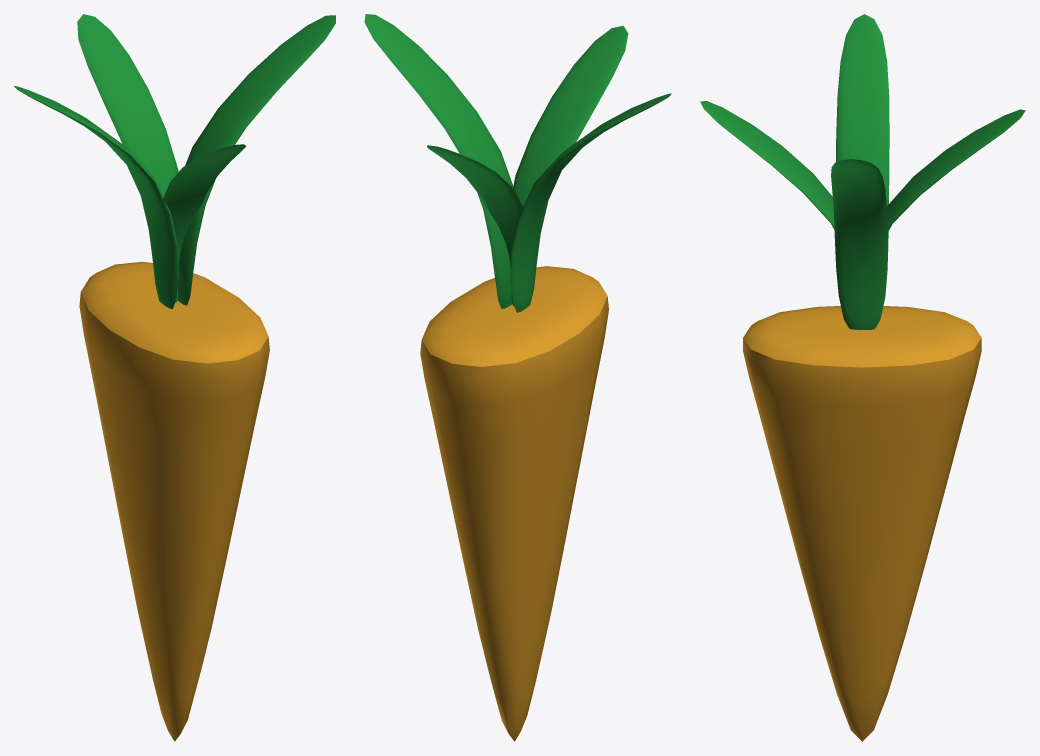
File: Carrot.fbx
The picture shows the model from 3 angles, left to right: view 1: azimuth 30°, elevation 25°; view 2: azimuth 150°, elevation 25°; view 3: azimuth 270°, elevation 25°; orthographic projection. The views are drawn at different scales.
Visible parts, largest first — view 1: Cube; view 2: Cube; view 3: Cube.
Part boxes in pixels (bbox=[...]): Cube: bbox=[14, 14, 335, 741]; Cube: bbox=[364, 14, 671, 741]; Cube: bbox=[700, 14, 1025, 741].
Size of the model in its own units: 218 by 459 by 207.
